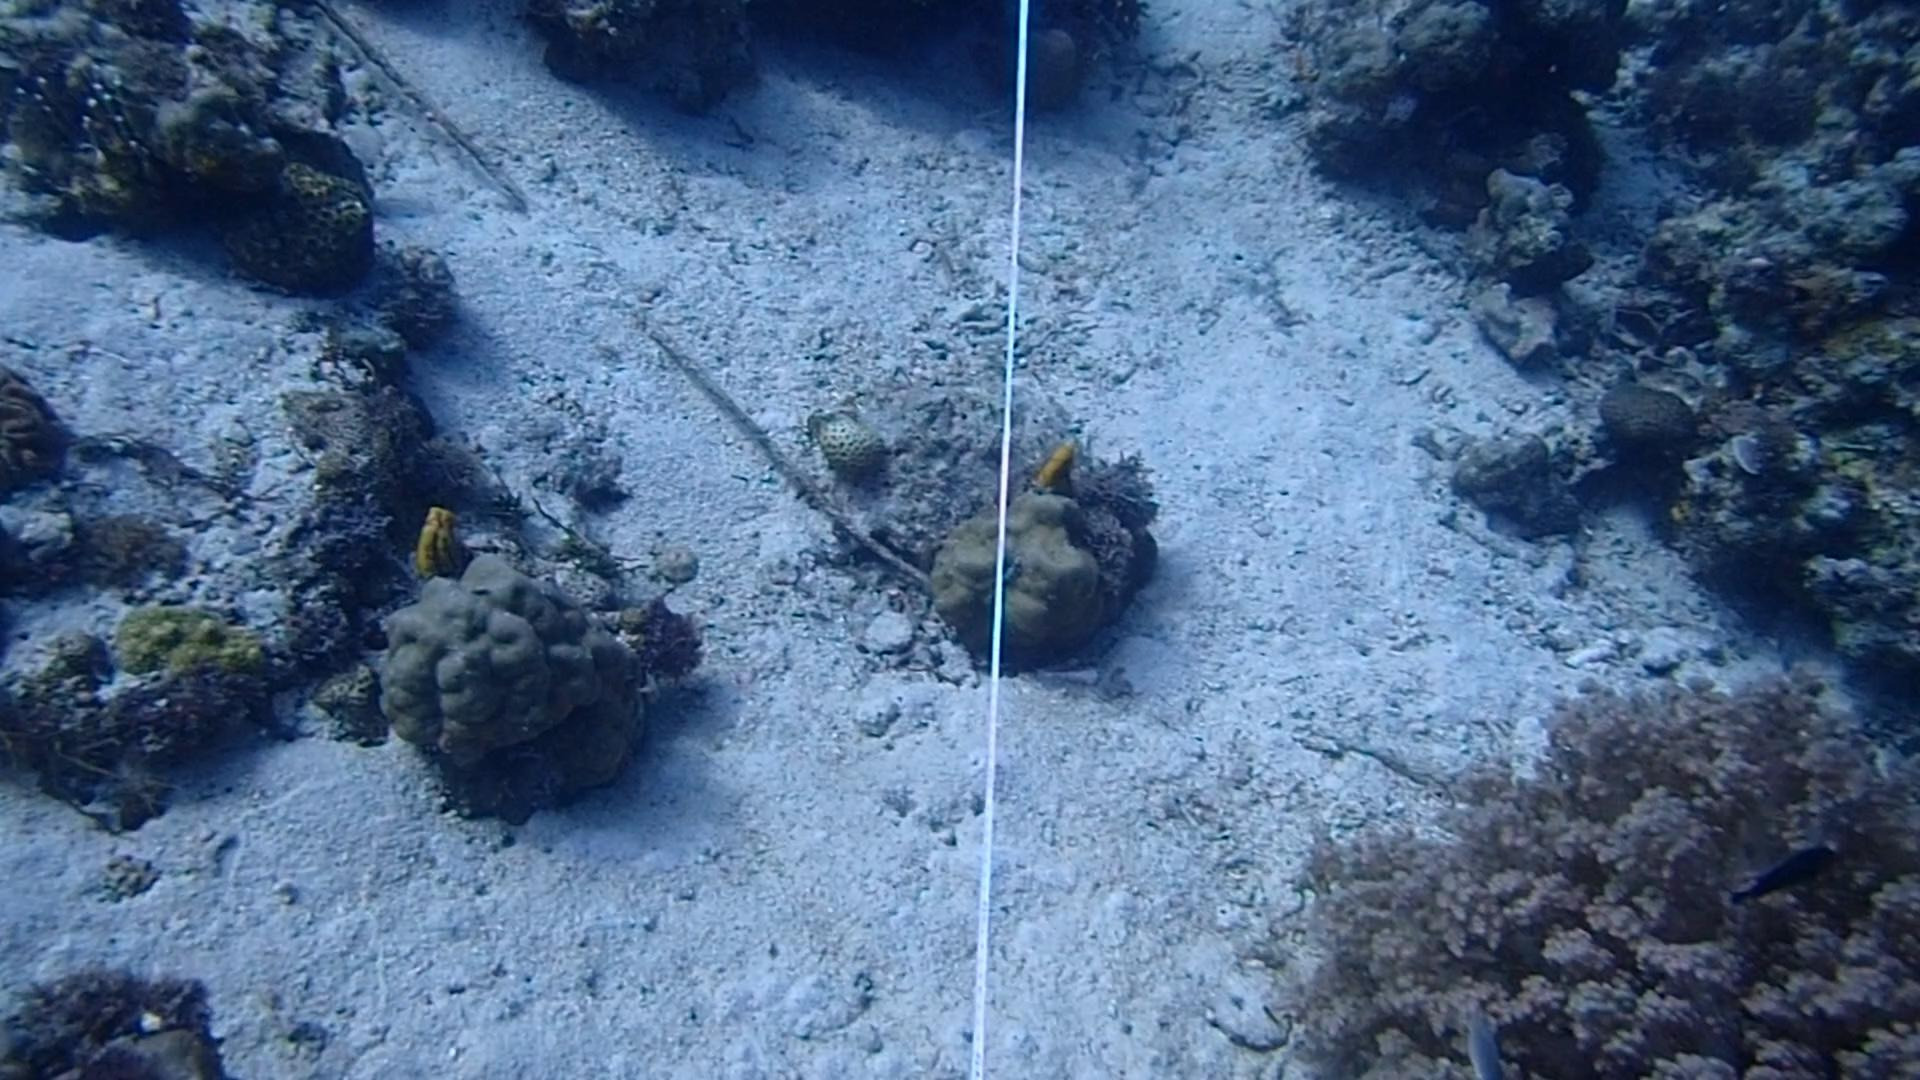Dark Fish: (1709, 835, 1854, 907)
Light Fish: (1444, 1006, 1515, 1080)
